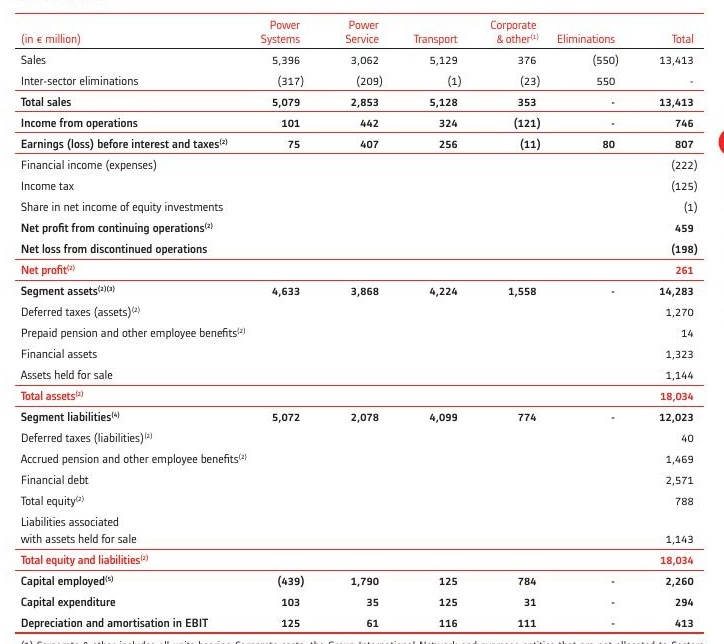table: (0, 0, 724, 644)
